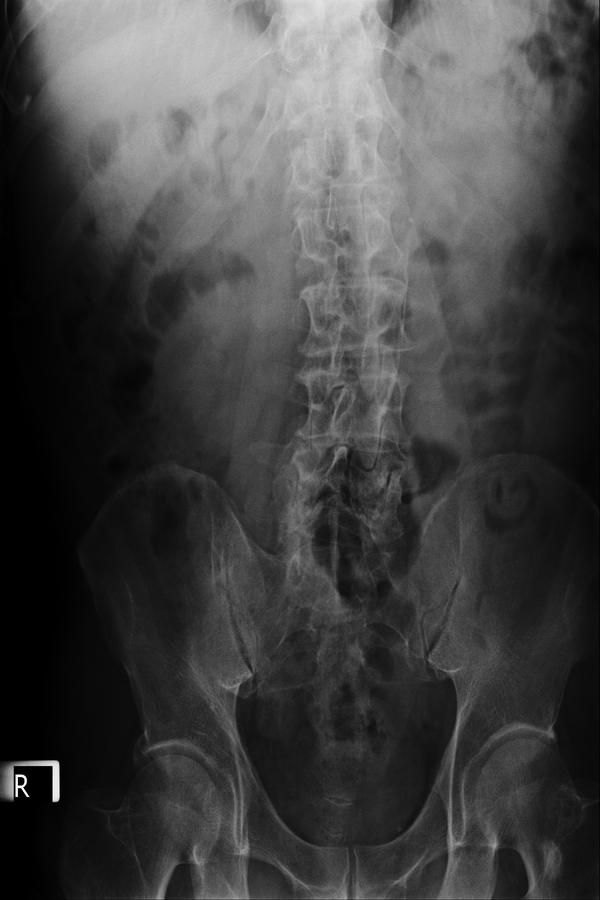lumbar scoliosis: (270, 14, 421, 567)
